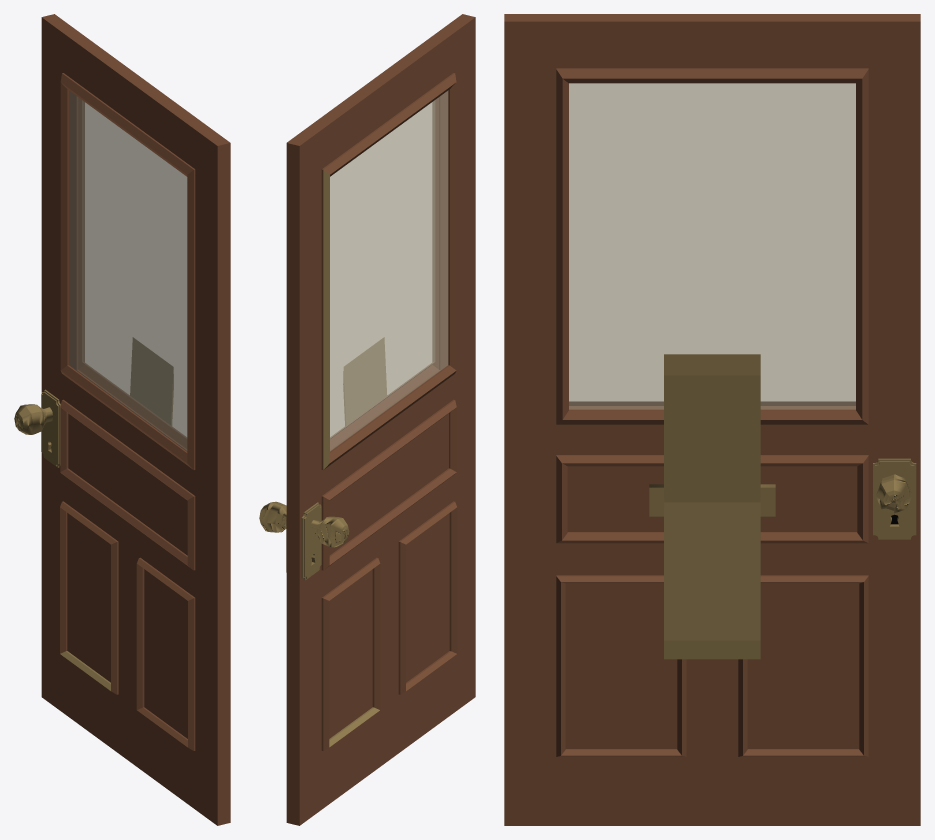
The model's file is portafixed.fbx.
The picture shows the model from 3 angles, left to right: view 1: azimuth 30°, elevation 25°; view 2: azimuth 150°, elevation 25°; view 3: azimuth 270°, elevation 25°; orthographic projection. The views are drawn at different scales.
Visible parts, largest first — view 1: Porta, Plane; view 2: Porta, Plane; view 3: Porta, Plane.001, Plane.
Part boxes in pixels (x1,y1,x2,y2): Porta: [14, 14, 230, 825]; Plane: [130, 338, 173, 425]; Porta: [259, 14, 475, 825]; Plane: [343, 338, 386, 425]; Porta: [504, 14, 920, 825]; Plane.001: [664, 502, 760, 659]; Plane: [664, 354, 760, 502].
Bounding box in the file's own units: 41.85 × 327 × 153.
